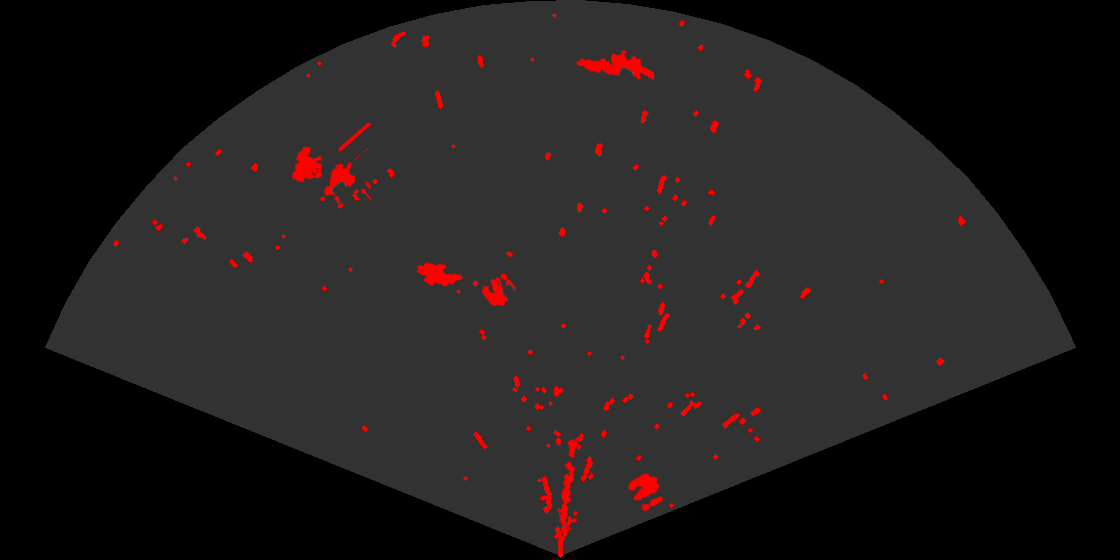AUV: (415, 261, 465, 288)
ball: (626, 471, 665, 513), (480, 272, 518, 308)
cage: (290, 123, 371, 203)
chain: (558, 437, 580, 539)
frogman: (575, 49, 654, 82)
